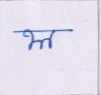aa_matra: (49, 32, 55, 48)
